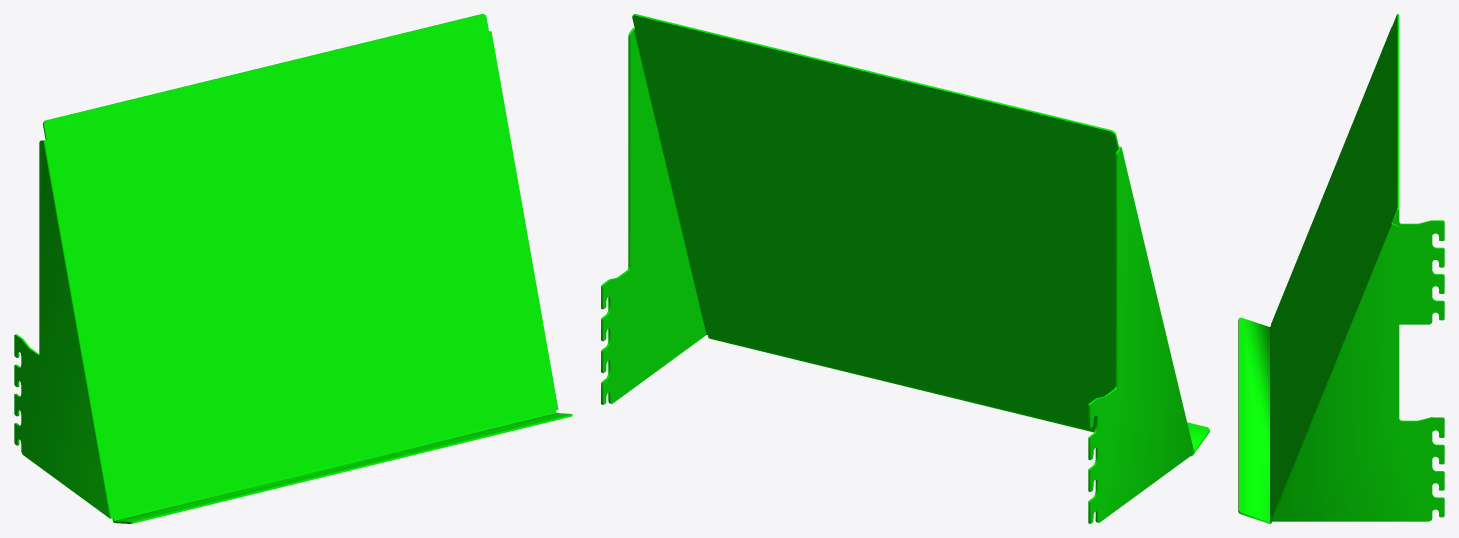
The model's file is display_shelf_w400_d200-v1.glb.
3 views of the same model, side by side, from view 1: azimuth 30°, elevation 25°; view 2: azimuth 150°, elevation 25°; view 3: azimuth 270°, elevation 25° (orthographic). The views are drawn at different scales.
Parts seen in each view (by area): view 1: display_shelf_w400_d200; view 2: display_shelf_w400_d200; view 3: display_shelf_w400_d200.
Boxes of the visible parts, bbox=[...] form: display_shelf_w400_d200: bbox=[14, 14, 572, 523]; display_shelf_w400_d200: bbox=[601, 14, 1209, 523]; display_shelf_w400_d200: bbox=[1238, 14, 1444, 523].
Size of the model in its own units: 0.4016 by 0.2994 by 0.1769.
